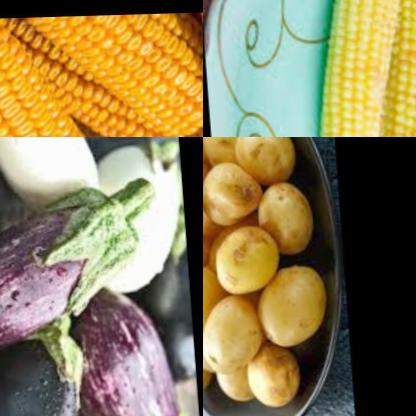corn: (32, 16, 203, 137), (3, 39, 203, 137), (0, 17, 151, 137), (306, 0, 416, 137), (372, 0, 416, 137)
eggplant: (0, 150, 160, 360), (58, 264, 193, 416), (0, 308, 95, 416)
potato: (247, 271, 334, 351), (244, 182, 318, 262), (205, 228, 278, 303), (203, 296, 261, 380), (236, 344, 295, 414), (203, 165, 260, 237), (231, 137, 301, 189), (203, 364, 255, 409), (203, 137, 249, 185), (203, 263, 223, 339)
